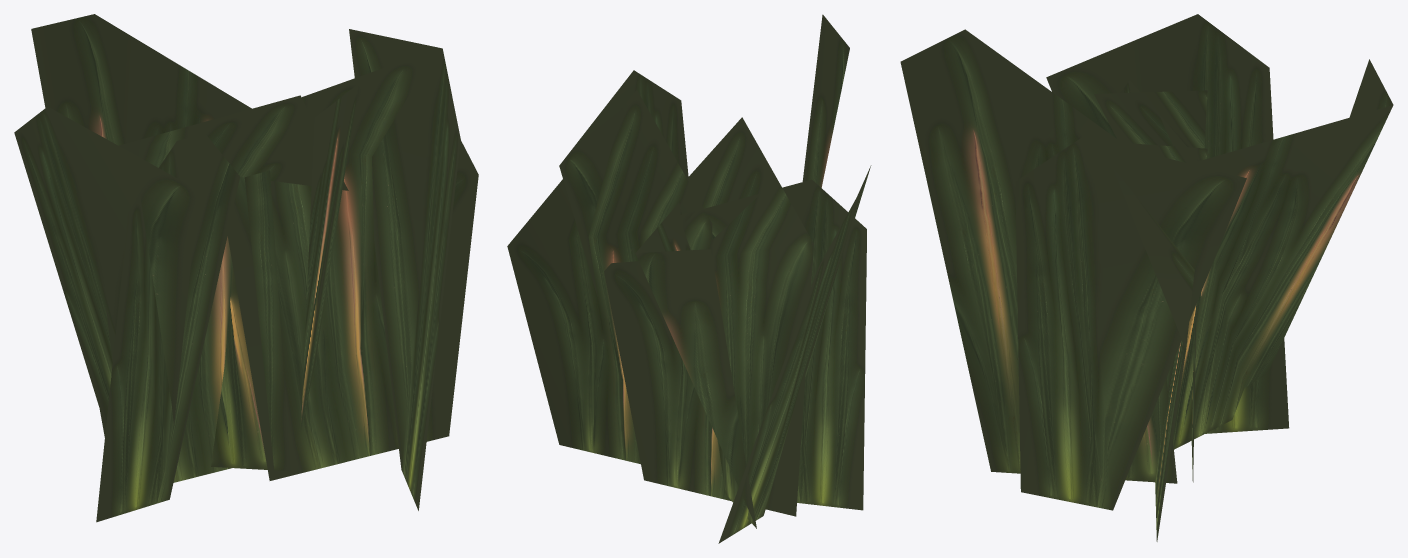
File: Grass1_LOD2.fbx
3 renders of one model, left to right at view 1: azimuth 30°, elevation 25°; view 2: azimuth 150°, elevation 25°; view 3: azimuth 270°, elevation 25°, orthographic. The views are drawn at different scales.
Parts seen in each view (by area): view 1: polySurface15; view 2: polySurface15; view 3: polySurface15.
Boxes of the visible parts, x1,y1,x2,y2 form: polySurface15: [14, 14, 478, 522]; polySurface15: [507, 14, 871, 543]; polySurface15: [900, 14, 1393, 541].
Bounding box in the file's own units: 120 × 125 × 134.
